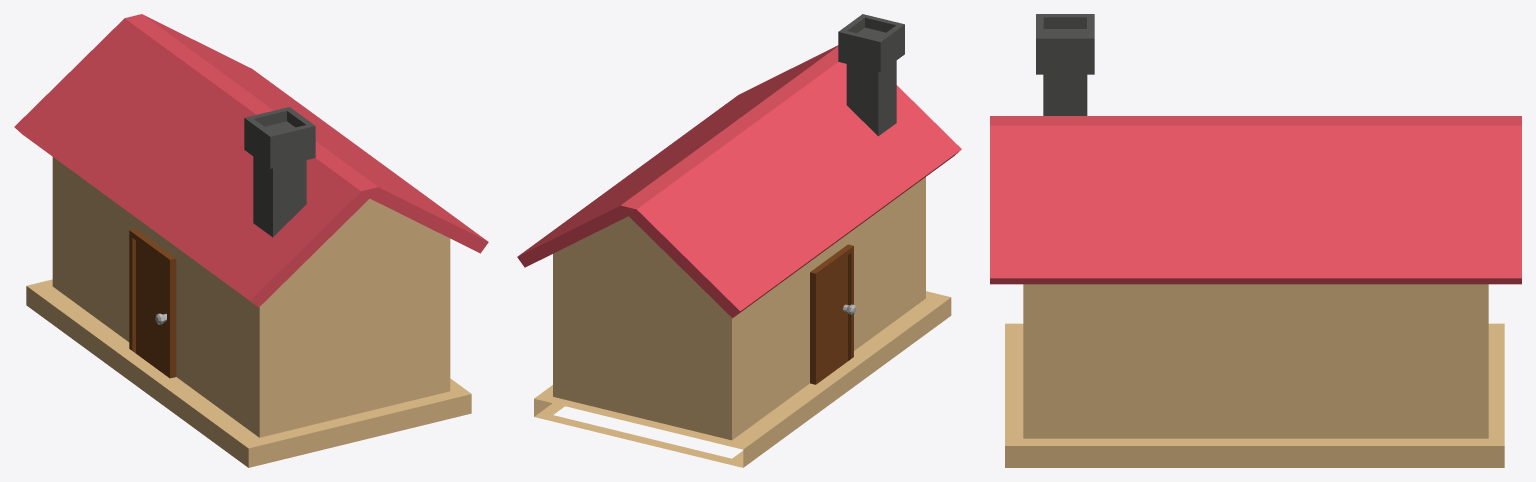
The model's file is huisB.fbx.
3 views of the same model, side by side, from view 1: azimuth 30°, elevation 25°; view 2: azimuth 150°, elevation 25°; view 3: azimuth 270°, elevation 25° (orthographic). The views are drawn at different scales.
Parts seen in each view (by area): view 1: Cube, roof, chimney, Cube.001; view 2: Cube, roof, chimney, Cube.001; view 3: Cube, roof, chimney.
Part boxes in pixels (x1=…): Cube: x1=26, y1=157, x2=471, y2=467; roof: x1=14, y1=14, x2=488, y2=307; chimney: x1=244, y1=107, x2=315, y2=237; Cube.001: x1=129, y1=228, x2=176, y2=378; Cube: x1=534, y1=177, x2=951, y2=467; roof: x1=517, y1=45, x2=961, y2=318; chimney: x1=838, y1=14, x2=904, y2=136; Cube.001: x1=810, y1=244, x2=853, y2=384; Cube: x1=1005, y1=284, x2=1504, y2=467; roof: x1=990, y1=116, x2=1521, y2=284; chimney: x1=1036, y1=14, x2=1094, y2=115.
Size of the model in its own units: 415 by 520 by 713.
